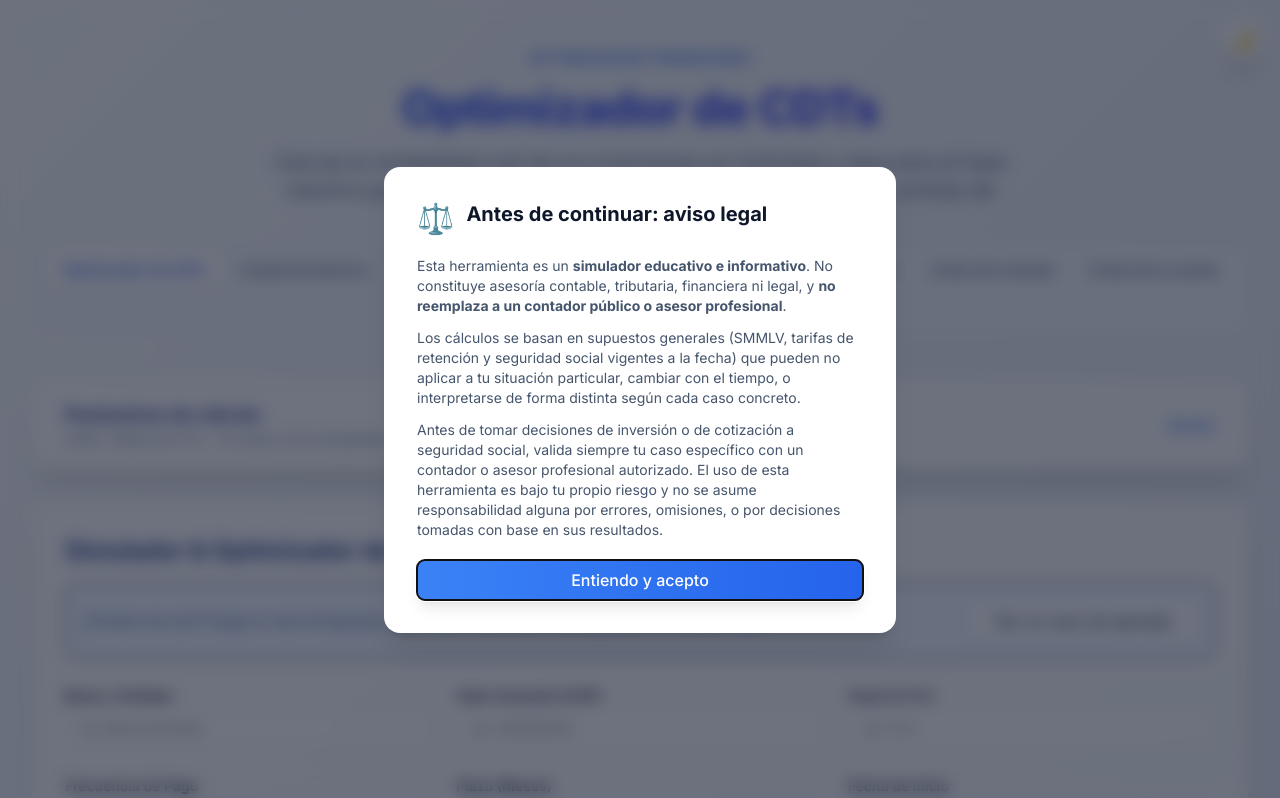
App › cambiar a la pestaña "¿Declaro renta?" muestra ese simulador
Click the button "Entiendo y acepto" at (640, 580), box [417, 560, 863, 600]
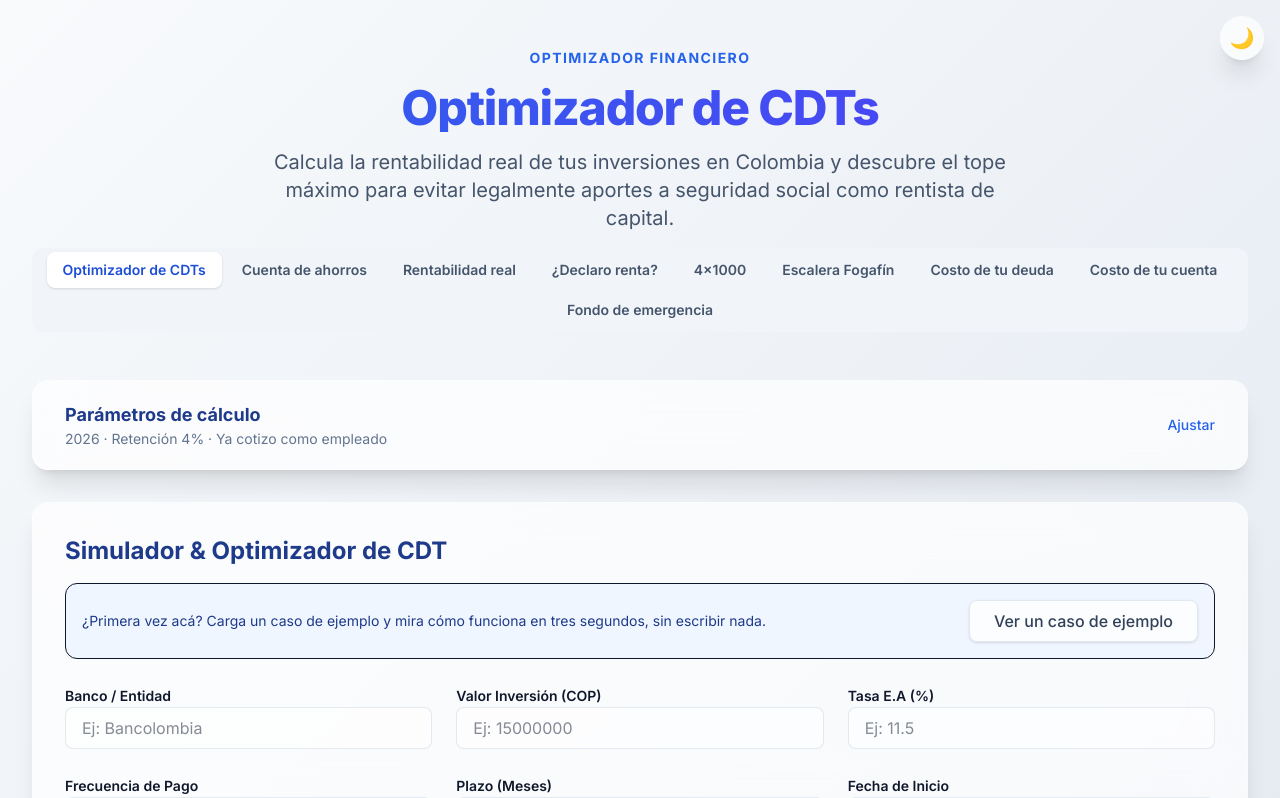
Click the link "¿Declaro renta?" at (605, 270), box [552, 261, 658, 278]
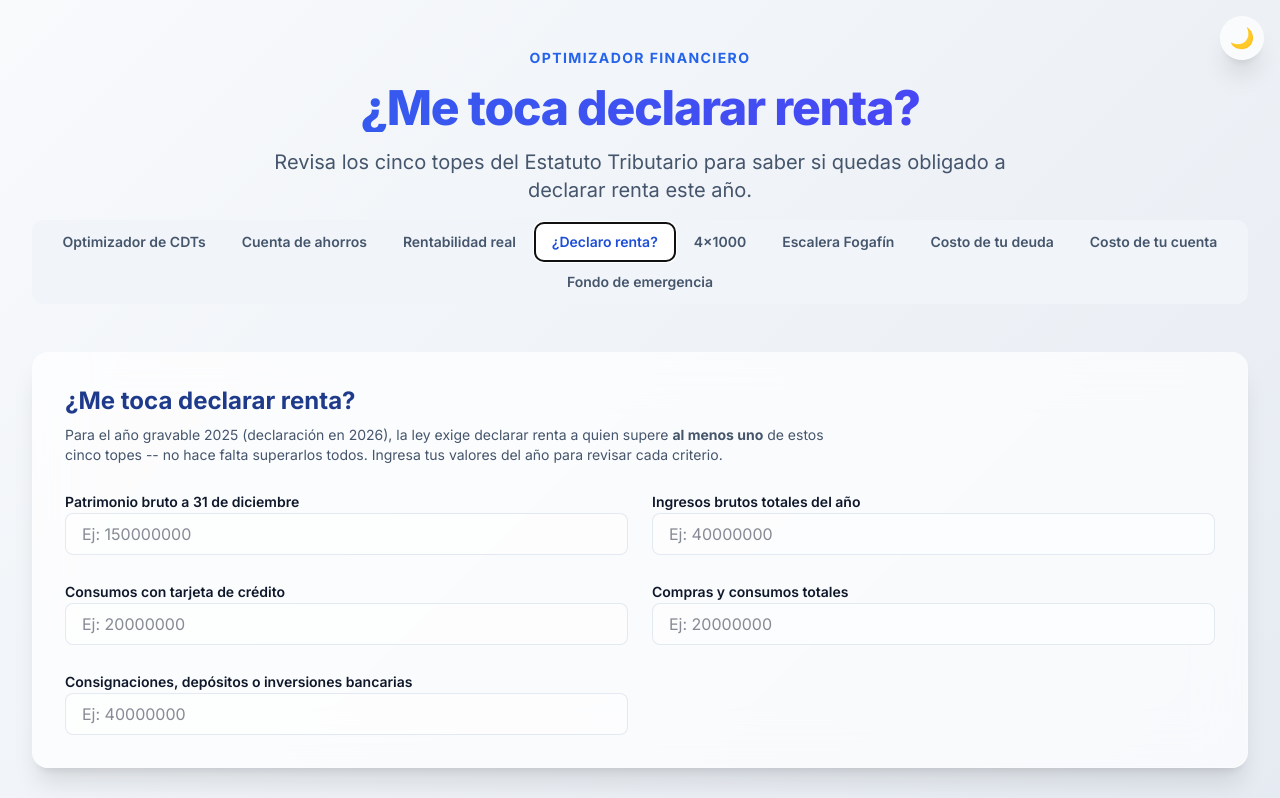
Expected: the heading "¿Me toca declarar renta?" below "Optimizador Financiero" is shown, [32, 84, 1248, 132]
